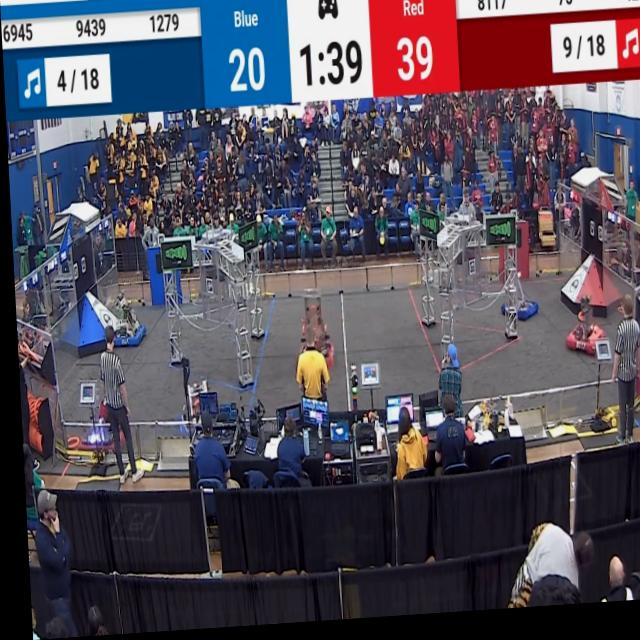Robot: (556, 302, 600, 370), (76, 378, 112, 458), (291, 298, 329, 371), (495, 266, 534, 333), (106, 293, 143, 355), (173, 380, 208, 434)
